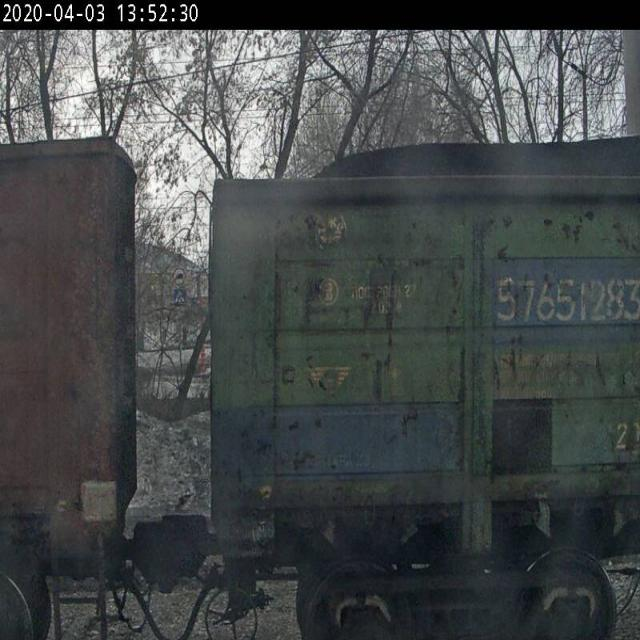gondola: (195, 105, 640, 640), (0, 115, 149, 640)
